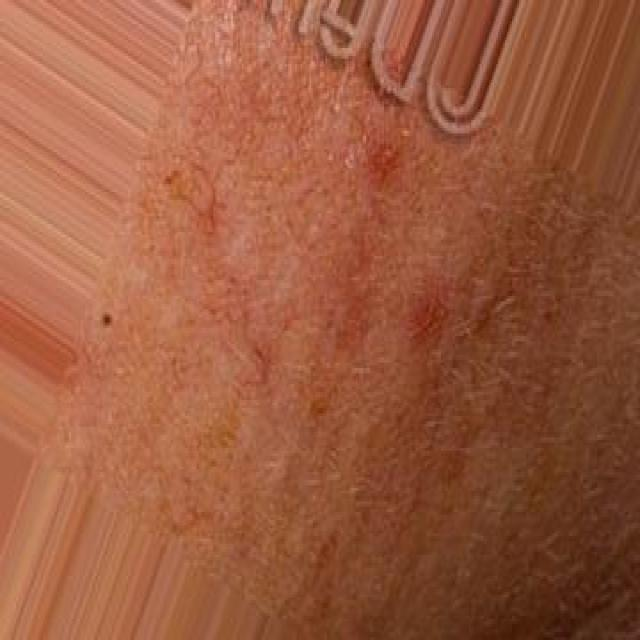Rosacea: (157, 140, 444, 404)
